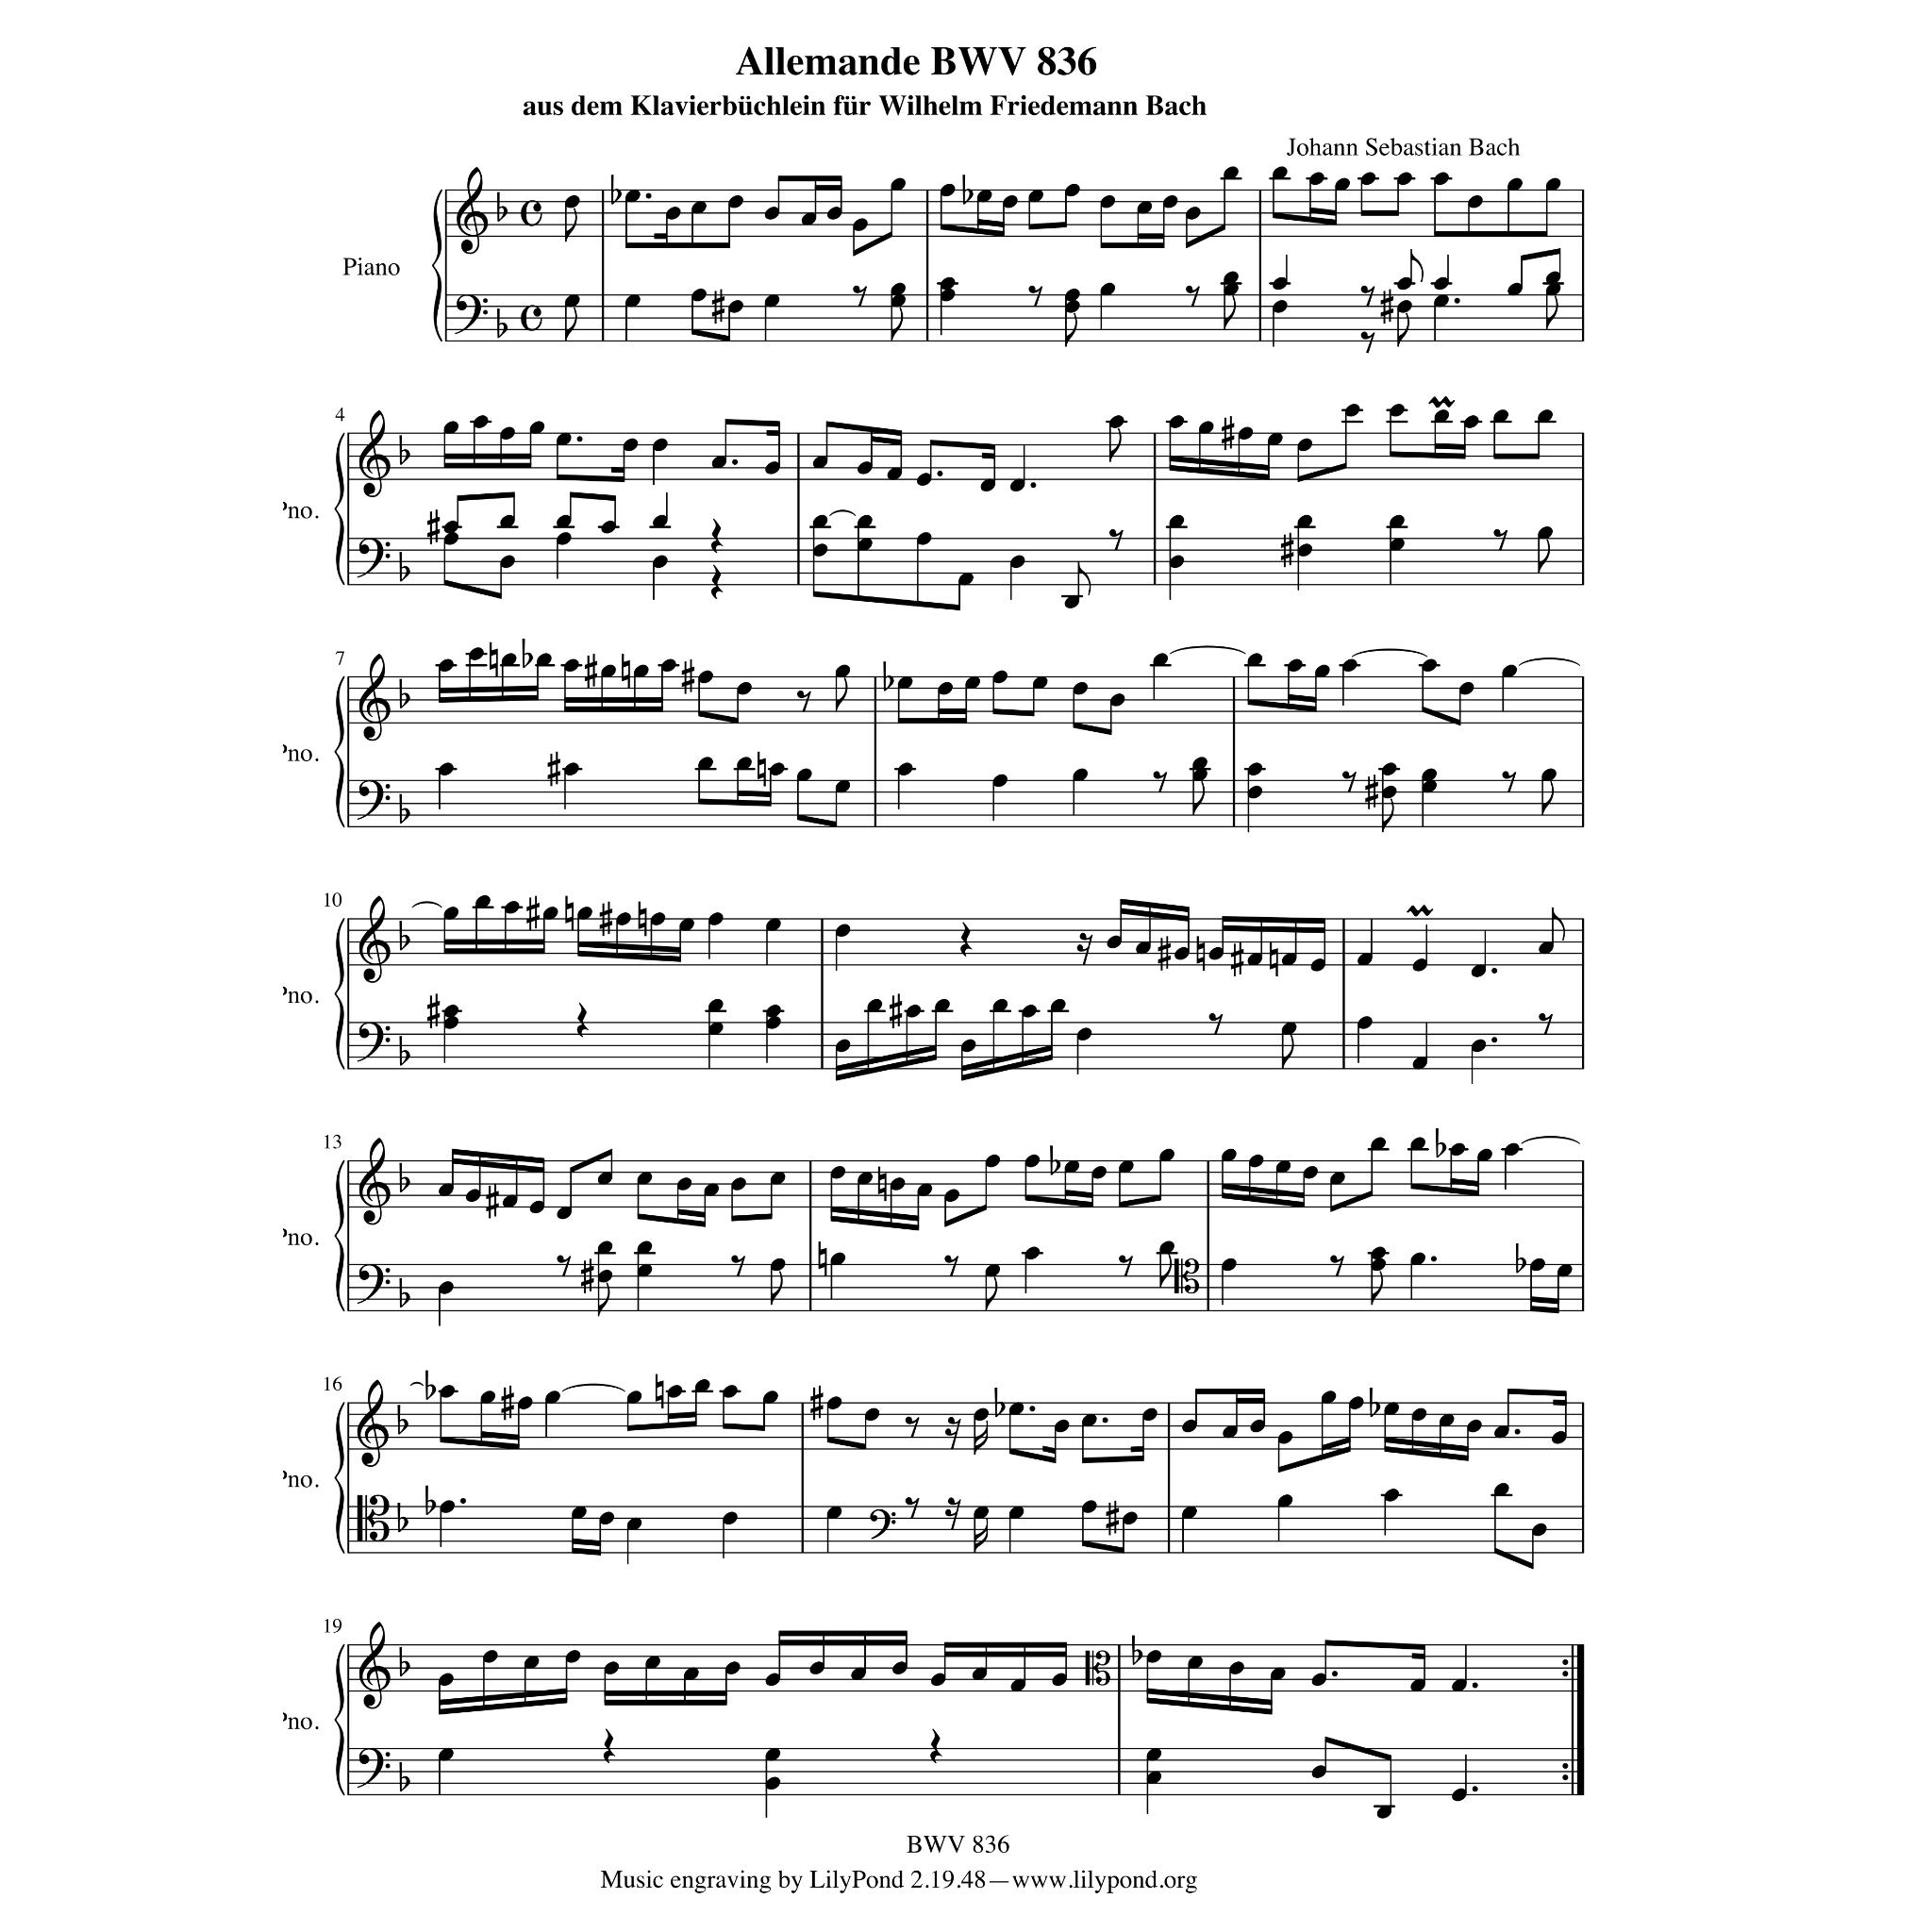brace: (333, 432, 345, 586), (333, 1159, 345, 1313), (333, 1401, 345, 1555), (333, 676, 345, 828), (333, 918, 345, 1070), (333, 1644, 345, 1796), (432, 189, 442, 343)
fClef: (453, 295, 488, 336), (357, 538, 391, 579), (357, 780, 391, 821), (357, 1023, 391, 1063), (357, 1263, 391, 1304), (357, 1748, 391, 1789)
flag16thDown: (975, 1518, 989, 1553), (975, 1421, 989, 1454)
flag8thDown: (1109, 428, 1122, 464), (1192, 780, 1205, 816), (1065, 313, 1077, 347), (1224, 295, 1237, 329), (1546, 295, 1559, 329), (1398, 313, 1410, 347), (564, 308, 577, 341), (564, 209, 577, 242), (892, 308, 904, 341), (1537, 540, 1550, 573), (1382, 798, 1394, 832), (835, 678, 847, 711), (1281, 1035, 1293, 1069), (1161, 1254, 1173, 1288), (985, 1277, 998, 1311), (1371, 1270, 1384, 1304), (598, 1283, 610, 1316), (770, 1270, 782, 1304), (1543, 780, 1553, 816)
flag8thUp: (1410, 249, 1424, 283), (1552, 908, 1566, 941), (1077, 563, 1090, 596)
gClef: (359, 409, 391, 499), (456, 166, 488, 255), (359, 653, 391, 741), (359, 895, 391, 984), (359, 1138, 391, 1226), (357, 1380, 389, 1468), (359, 1622, 391, 1711)
noteheadBlack: (1099, 195, 1116, 209), (502, 901, 520, 915), (1369, 1246, 1387, 1260), (1369, 1258, 1387, 1272), (1141, 1408, 1159, 1422), (1162, 195, 1178, 209), (1272, 166, 1288, 180), (1223, 166, 1238, 180), (1467, 195, 1483, 209), (1433, 294, 1449, 308), (727, 195, 743, 209), (690, 288, 706, 303), (764, 294, 780, 308), (800, 212, 816, 226), (564, 294, 580, 308), (564, 195, 580, 209), (625, 294, 640, 308), (625, 189, 640, 203), (977, 189, 993, 203), (1063, 288, 1079, 303), (1063, 184, 1079, 198), (1028, 189, 1044, 203), (1003, 195, 1019, 209), (890, 294, 906, 308), (939, 184, 955, 198), (939, 288, 955, 303), (1168, 515, 1184, 529), (1168, 556, 1184, 570), (1198, 421, 1214, 435), (916, 472, 932, 487), (1063, 594, 1079, 609), (1010, 556, 1026, 570), (1537, 409, 1553, 423), (1493, 409, 1509, 423), (1345, 403, 1361, 418), (1297, 515, 1313, 529), (1297, 543, 1313, 557), (1267, 432, 1283, 446), (1433, 409, 1449, 423), (1389, 515, 1405, 529), (1389, 403, 1405, 418), (529, 421, 545, 435), (556, 432, 571, 446), (499, 556, 515, 570), (499, 515, 515, 529), (556, 515, 571, 529), (442, 421, 458, 435), (600, 520, 616, 534), (442, 520, 458, 534), (812, 515, 828, 529), (812, 543, 828, 557), (764, 462, 780, 476), (856, 515, 872, 529), (856, 462, 872, 476), (651, 556, 667, 570), (651, 515, 667, 529), (1152, 653, 1168, 667), (1247, 653, 1263, 667), (1247, 786, 1263, 800), (964, 676, 980, 690), (993, 671, 1008, 685), (938, 681, 954, 695), (1072, 681, 1088, 695), (1031, 676, 1047, 690), (1458, 681, 1474, 695), (1421, 780, 1437, 794), (1380, 786, 1396, 800), (536, 653, 552, 667), (501, 653, 517, 667), (835, 780, 851, 794), (697, 671, 713, 685), (897, 676, 913, 690), (736, 681, 752, 695), (1208, 947, 1224, 961), (1173, 947, 1189, 961), (1281, 1021, 1297, 1035), (1136, 941, 1152, 955), (1076, 1028, 1092, 1042), (1537, 941, 1553, 955), (1357, 1016, 1373, 1030), (1309, 957, 1325, 971), (1412, 1056, 1428, 1070), (1412, 957, 1428, 971), (577, 906, 593, 920), (541, 906, 557, 920), (679, 918, 695, 932), (442, 1016, 458, 1030), (442, 906, 458, 920), (708, 1021, 724, 1035), (766, 1016, 782, 1030), (766, 918, 782, 932), (1221, 1258, 1237, 1272), (1221, 1148, 1237, 1162), (1249, 1154, 1265, 1168), (1024, 1246, 1040, 1260), (1024, 1154, 1040, 1168), (984, 1263, 1000, 1277), (984, 1154, 1000, 1168), (1159, 1148, 1175, 1162), (1092, 1166, 1108, 1180), (1530, 1258, 1546, 1272), (1557, 1263, 1573, 1277), (1504, 1143, 1520, 1157), (1477, 1148, 1493, 1162), (1330, 1171, 1346, 1185), (1302, 1166, 1318, 1180), (1449, 1143, 1465, 1157), (1410, 1253, 1426, 1267), (596, 1171, 612, 1185), (676, 1177, 692, 1191), (637, 1263, 653, 1277), (637, 1171, 653, 1185), (501, 1194, 517, 1208), (437, 1281, 453, 1295), (437, 1184, 453, 1198), (856, 1171, 872, 1185), (916, 1184, 932, 1198), (890, 1177, 906, 1191), (770, 1258, 786, 1272), (731, 1177, 747, 1191), (770, 1171, 786, 1185), (830, 1253, 846, 1267), (830, 1166, 846, 1180), (704, 1184, 720, 1198), (1180, 1419, 1196, 1433), (1249, 1419, 1265, 1433), (1277, 1431, 1293, 1445), (1053, 1419, 1069, 1433), (1081, 1414, 1097, 1428), (1008, 1401, 1024, 1415), (1122, 1511, 1138, 1525), (1081, 1500, 1097, 1514), (1552, 1431, 1568, 1445), (1530, 1523, 1546, 1537), (1384, 1488, 1399, 1502), (1384, 1401, 1399, 1415), (1348, 1396, 1364, 1410), (1320, 1391, 1336, 1405), (1493, 1483, 1509, 1497), (1467, 1419, 1483, 1433), (1438, 1414, 1454, 1428), (598, 1511, 614, 1525), (626, 1391, 642, 1405), (545, 1391, 561, 1405), (517, 1396, 533, 1410), (479, 1391, 495, 1405), (439, 1500, 455, 1514), (863, 1408, 879, 1422), (763, 1391, 778, 1405), (722, 1511, 738, 1525), (826, 1396, 842, 1410), (973, 1408, 989, 1422), (971, 1667, 987, 1681), (1270, 1667, 1286, 1681), (1311, 1764, 1327, 1778), (849, 1667, 865, 1681), (683, 1667, 699, 1681), (1099, 283, 1116, 295), (1341, 660, 1359, 672), (1369, 1138, 1387, 1150), (943, 1189, 961, 1201), (1228, 1661, 1246, 1674), (644, 1656, 662, 1668), (1412, 1408, 1426, 1422), (1334, 179, 1350, 191), (1361, 173, 1376, 186), (1309, 173, 1325, 186), (1136, 202, 1152, 214), (1223, 283, 1238, 295), (1272, 278, 1288, 290), (1223, 272, 1238, 285), (1272, 301, 1288, 313), (1185, 207, 1201, 219), (1545, 283, 1560, 295), (1545, 272, 1560, 285), (1545, 179, 1560, 191), (1507, 283, 1523, 295), (1507, 179, 1523, 191), (1396, 301, 1412, 313), (1396, 278, 1412, 290), (1396, 173, 1412, 186), (1433, 278, 1449, 290), (1433, 173, 1449, 186), (690, 202, 706, 214), (727, 301, 743, 313), (764, 207, 780, 219), (1063, 301, 1079, 313), (890, 283, 906, 295), (890, 179, 906, 191), (853, 219, 869, 232), (826, 207, 842, 219), (939, 278, 955, 290), (1168, 416, 1184, 428), (1237, 428, 1253, 441), (957, 573, 973, 586), (980, 479, 996, 492), (916, 533, 932, 545), (1108, 416, 1123, 428), (1010, 479, 1026, 492), (1537, 527, 1553, 540), (1297, 439, 1313, 451), (1463, 416, 1479, 428), (1389, 538, 1405, 550), (499, 428, 515, 441), (556, 533, 571, 545), (472, 416, 488, 428), (442, 533, 458, 545), (812, 456, 828, 469), (623, 439, 639, 451), (856, 538, 872, 550), (886, 467, 902, 479), (711, 456, 727, 469), (651, 439, 667, 451), (1192, 757, 1208, 770), (1192, 770, 1208, 782), (1247, 763, 1263, 775), (993, 775, 1008, 787), (1109, 694, 1125, 706), (1072, 770, 1088, 782), (1541, 770, 1557, 782), (1502, 665, 1518, 678), (1315, 665, 1330, 678), (1286, 660, 1302, 672), (1421, 660, 1437, 672), (1421, 770, 1437, 782), (1380, 763, 1396, 775), (564, 763, 580, 775), (564, 660, 580, 672), (660, 660, 676, 672), (633, 665, 649, 678), (600, 665, 616, 678), (467, 648, 483, 660), (437, 763, 453, 775), (437, 660, 453, 672), (835, 665, 851, 678), (796, 770, 812, 782), (897, 763, 913, 775), (736, 757, 752, 770), (768, 763, 784, 775), (697, 757, 713, 770), (1281, 954, 1297, 966), (1247, 954, 1263, 966), (1049, 1000, 1065, 1012), (1021, 1005, 1037, 1017), (993, 1000, 1008, 1012), (1106, 936, 1122, 948), (1470, 1040, 1486, 1053), (1470, 964, 1486, 977), (1357, 954, 1373, 966), (649, 913, 665, 925), (616, 913, 632, 925), (474, 895, 490, 908), (442, 1005, 458, 1017), (835, 1040, 851, 1053), (867, 1000, 883, 1012), (835, 925, 851, 938), (906, 1005, 922, 1017), (708, 1000, 724, 1012), (708, 913, 724, 925), (961, 1040, 977, 1053), (766, 1005, 782, 1017), (934, 1000, 950, 1012), (1159, 1242, 1175, 1254), (1276, 1161, 1292, 1173), (1063, 1161, 1079, 1173), (1118, 1161, 1134, 1173), (1410, 1138, 1426, 1150), (596, 1242, 612, 1254), (596, 1270, 612, 1283), (529, 1201, 545, 1214), (637, 1242, 653, 1254), (465, 1189, 481, 1201), (1180, 1506, 1196, 1518), (1223, 1426, 1238, 1438), (1277, 1495, 1293, 1507), (1008, 1506, 1024, 1518), (1493, 1426, 1509, 1438), (571, 1506, 587, 1518), (694, 1380, 709, 1392), (667, 1385, 683, 1398), (626, 1518, 642, 1530), (439, 1385, 455, 1398), (973, 1506, 989, 1518), (722, 1385, 738, 1398), (826, 1506, 842, 1518), (1187, 1656, 1203, 1668), (1010, 1679, 1026, 1691), (1051, 1674, 1067, 1686), (1146, 1651, 1162, 1663), (1146, 1771, 1162, 1783), (1146, 1748, 1162, 1760), (1451, 1789, 1467, 1801), (1451, 1679, 1467, 1691), (1311, 1674, 1327, 1686), (1376, 1806, 1392, 1819), (1410, 1679, 1426, 1691), (564, 1651, 580, 1663), (524, 1656, 540, 1668), (481, 1651, 497, 1663), (603, 1661, 619, 1674), (437, 1674, 453, 1686), (437, 1748, 453, 1760), (809, 1661, 824, 1674), (892, 1661, 908, 1674), (931, 1674, 947, 1686), (764, 1748, 780, 1760), (724, 1661, 740, 1674), (764, 1674, 780, 1686), (764, 1776, 780, 1789), (665, 207, 679, 219), (557, 1207, 571, 1219)
rest16th: (1076, 932, 1093, 966), (945, 1497, 961, 1530), (945, 1417, 961, 1449)
rest8th: (1493, 529, 1509, 552), (796, 690, 812, 713), (1329, 1254, 1345, 1277), (943, 1254, 959, 1277), (904, 1497, 920, 1520), (904, 1415, 920, 1438), (1028, 287, 1044, 308), (851, 287, 867, 308), (1341, 771, 1357, 793), (1208, 1014, 1224, 1035), (1537, 1014, 1553, 1035), (1361, 331, 1375, 354), (1109, 529, 1123, 552), (1118, 1254, 1132, 1277), (557, 1254, 571, 1277), (731, 1254, 745, 1277), (1361, 287, 1375, 308), (1185, 287, 1200, 308), (1154, 771, 1168, 793), (1502, 771, 1516, 793)
restQuarter: (711, 564, 724, 600), (711, 518, 724, 554), (603, 1729, 616, 1764), (929, 1729, 941, 1764), (577, 1001, 587, 1039), (961, 922, 971, 957)
